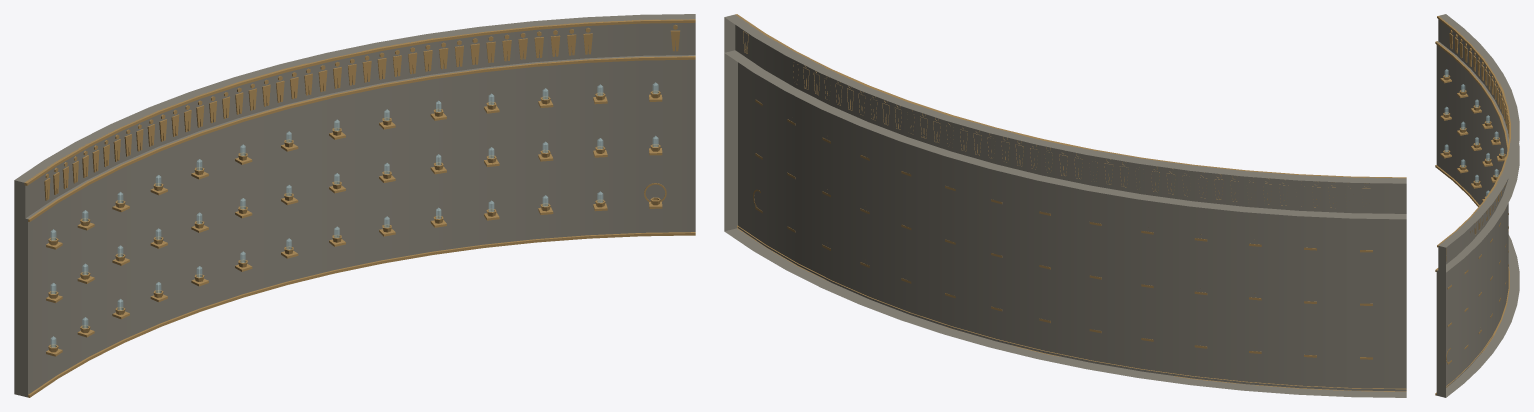
Rendered from memorial_wall.glb.
3 views of the same model, side by side, from view 1: azimuth 30°, elevation 25°; view 2: azimuth 150°, elevation 25°; view 3: azimuth 270°, elevation 25° (orthographic). The views are drawn at different scales.
Visible parts, largest first — view 1: memorial_wall, memorial_crystals; view 2: memorial_wall; view 3: memorial_wall, memorial_crystals.
Boxes of the visible parts, x1=… form: memorial_wall: x1=14, y1=14, x2=695, y2=397; memorial_crystals: x1=50, y1=82, x2=658, y2=347; memorial_wall: x1=724, y1=14, x2=1406, y2=397; memorial_wall: x1=1435, y1=14, x2=1519, y2=397; memorial_crystals: x1=1444, y1=69, x2=1503, y2=196.
Bounding box in the file's own units: 4 × 1.2 × 0.6123.
